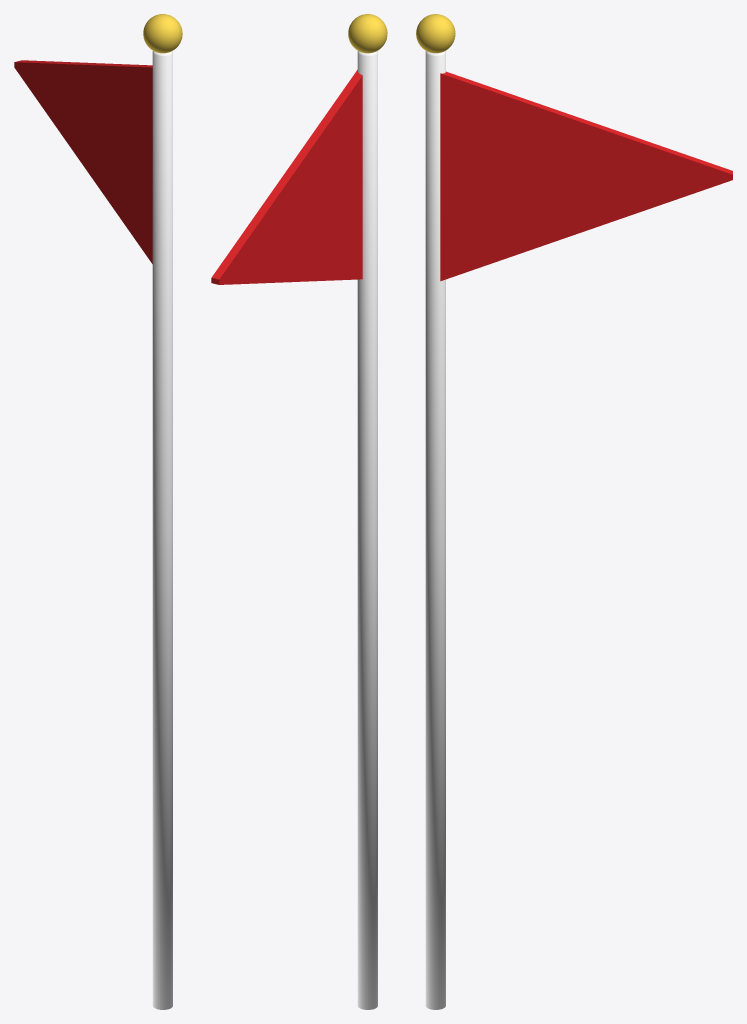
Rendered from flag.fbx.
The picture shows the model from 3 angles, left to right: view 1: azimuth 30°, elevation 25°; view 2: azimuth 150°, elevation 25°; view 3: azimuth 270°, elevation 25°; orthographic projection.
Parts seen in each view (by area): view 1: Plane; view 2: Plane; view 3: Plane.
Boxes of the visible parts, box(x1,y1,x2,y2) form: Plane: box(14, 14, 182, 1009); Plane: box(211, 14, 387, 1009); Plane: box(416, 14, 732, 1009).
Bounding box in the file's own units: 34.39 × 952 × 276.
